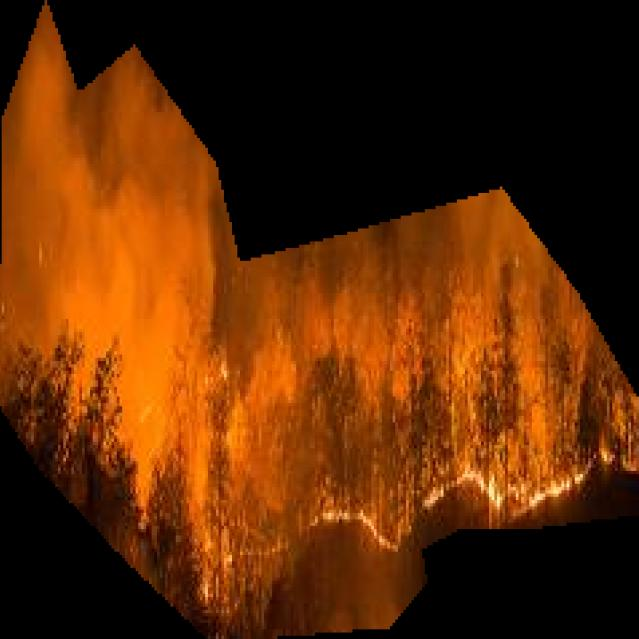fire: (0, 1, 639, 639)
